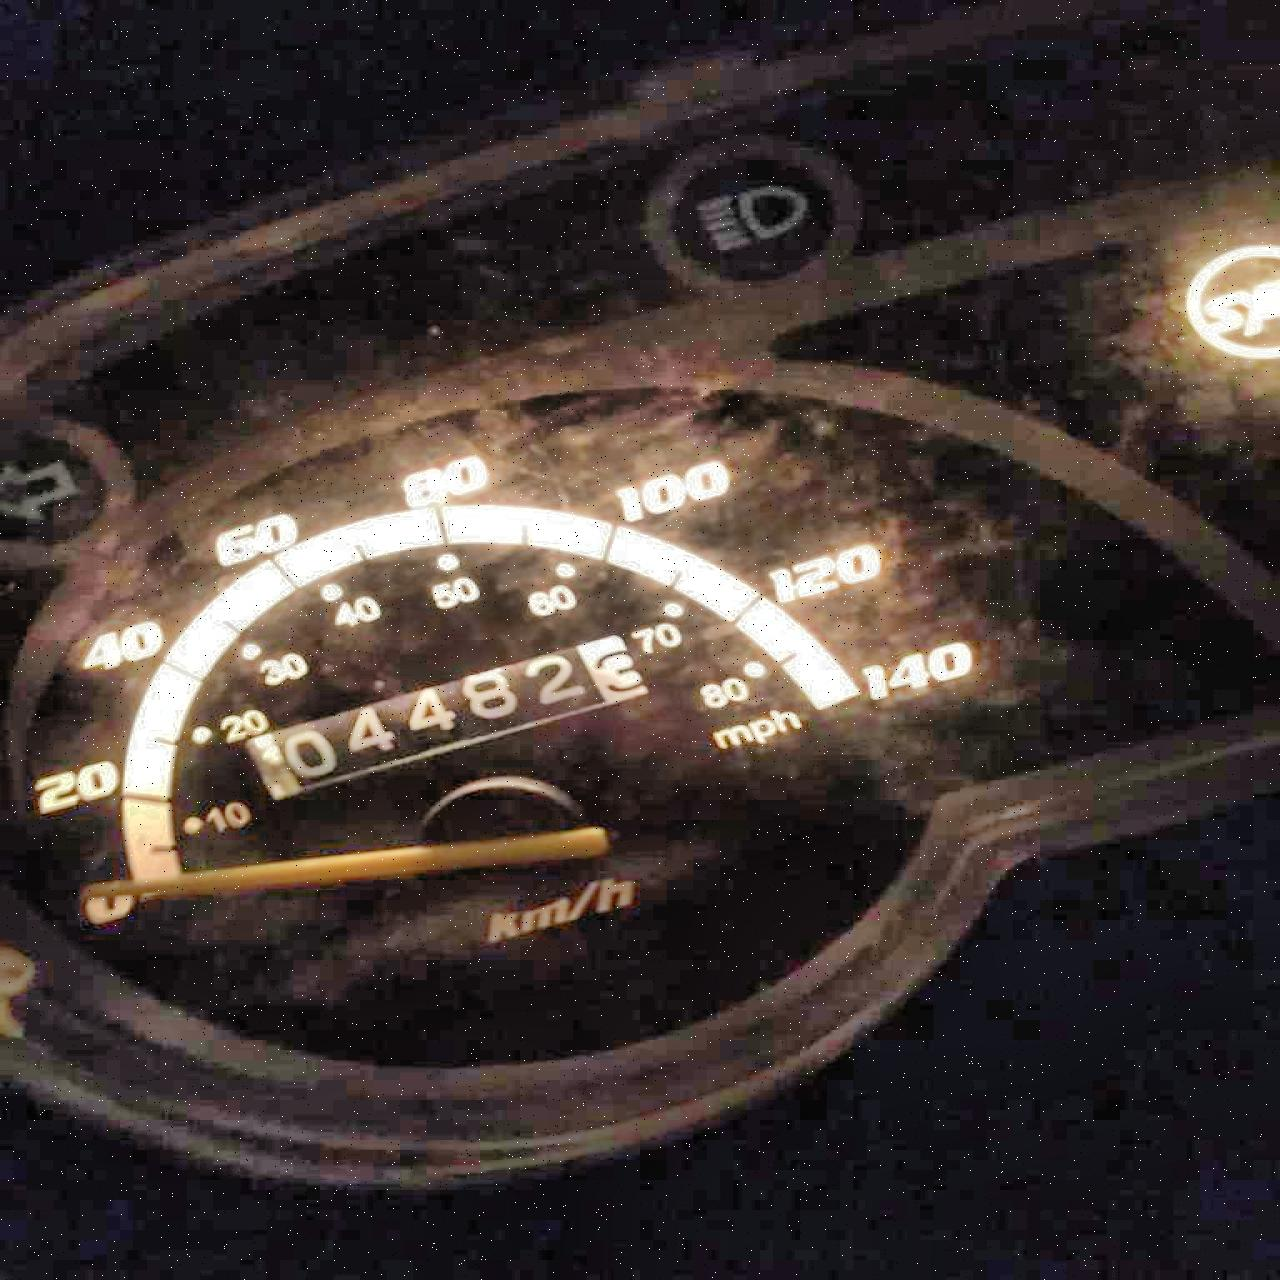0: (284, 729, 335, 776), (240, 708, 267, 733), (280, 652, 305, 678)
2: (523, 654, 587, 704)
3: (593, 651, 645, 692), (257, 658, 284, 685)
4: (403, 685, 455, 731), (345, 706, 393, 750)
7: (628, 626, 655, 653)
8: (461, 673, 517, 717)
odometer: (238, 631, 649, 799)
